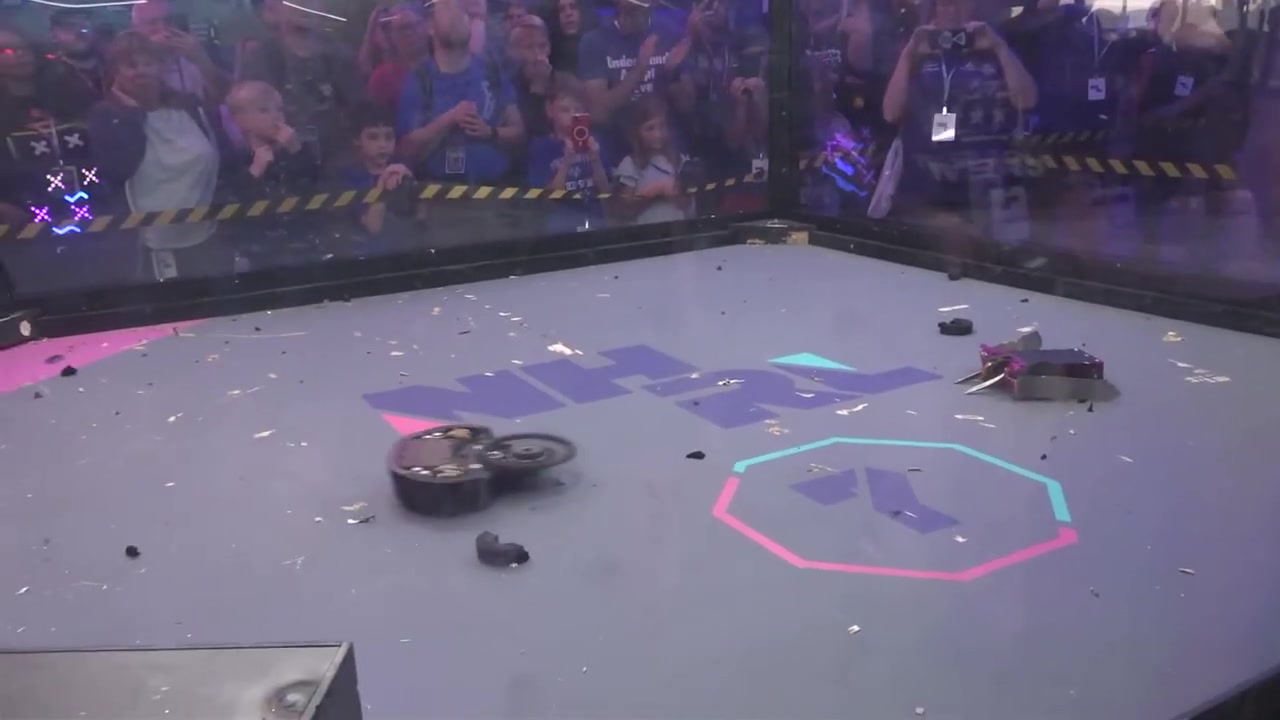combatbot: (389, 422, 578, 519), (959, 342, 1121, 405)
debris: (476, 538, 530, 568), (940, 321, 972, 337)
housebot: (0, 634, 359, 719)
